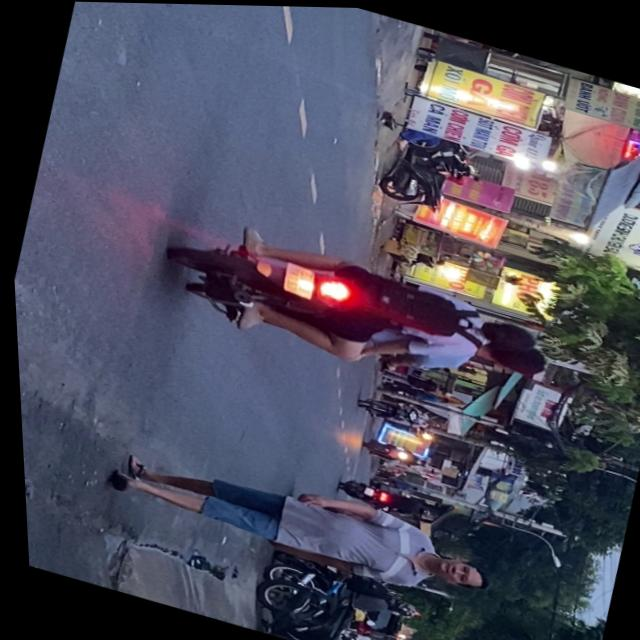licenseplate: (149, 202, 559, 413)
motorcyclist: (472, 328, 547, 377), (472, 310, 537, 353)
nohelmet: (279, 260, 316, 296)
